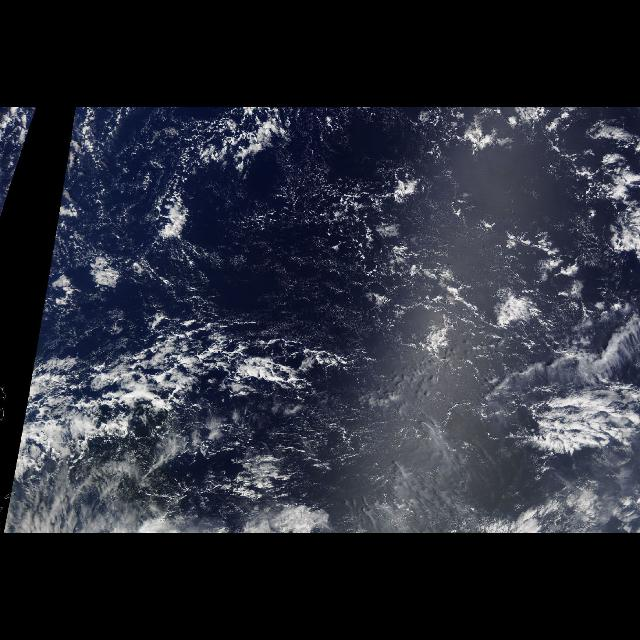Gravel: (246, 158, 536, 368)
